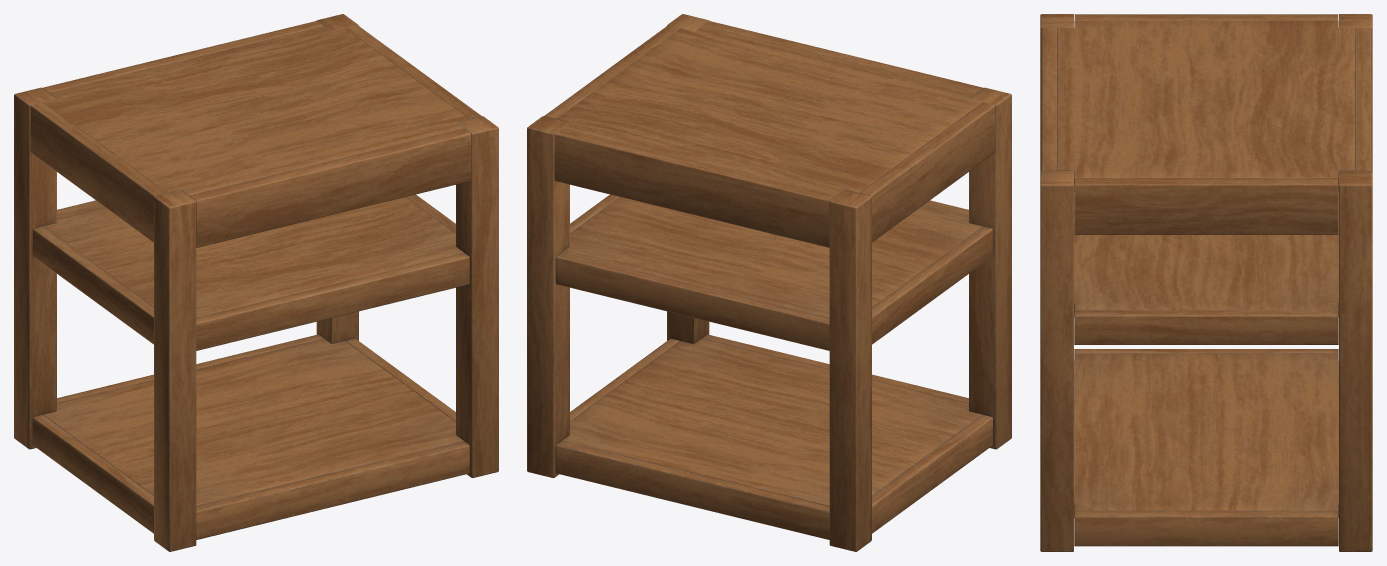
The model's file is side_table.glb.
The picture shows the model from 3 angles, left to right: view 1: azimuth 30°, elevation 25°; view 2: azimuth 150°, elevation 25°; view 3: azimuth 270°, elevation 25°; orthographic projection. The views are drawn at different scales.
Parts seen in each view (by area): view 1: side_table_01; view 2: side_table_01; view 3: side_table_01.
Part boxes in pixels (box(x1,y1,x2,y2)): side_table_01: box(14, 14, 498, 551); side_table_01: box(527, 14, 1011, 551); side_table_01: box(1040, 14, 1372, 551).
Size of the model in its own units: 0.55 by 0.5507 by 0.45.
1 material, 1 textured.
